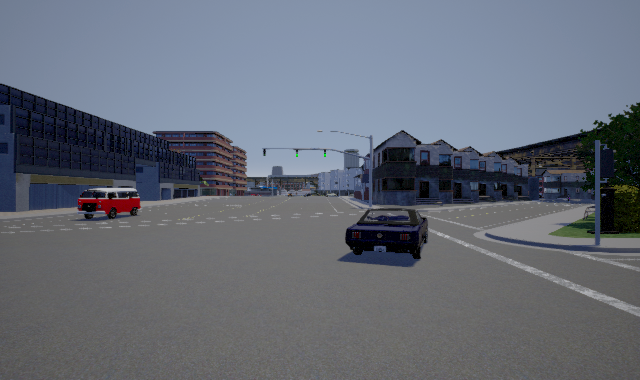traffic_light: (263, 149, 266, 156), (324, 149, 326, 157), (296, 149, 298, 157)
vehicle: (345, 208, 428, 259), (77, 188, 141, 219)
